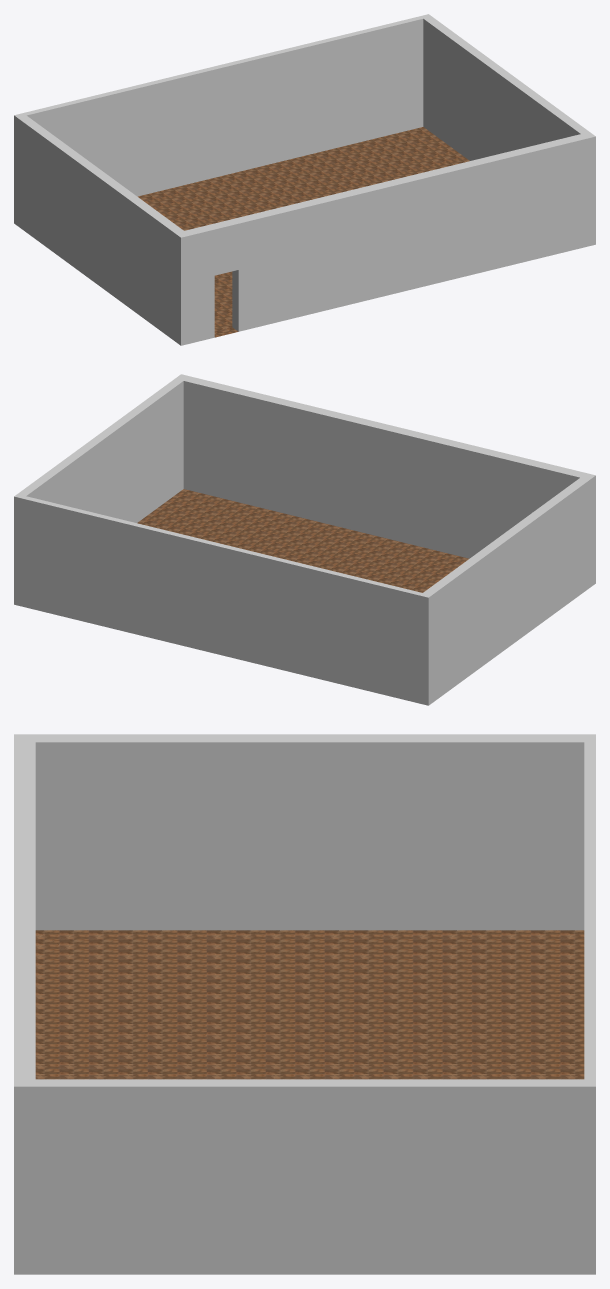
The model's file is classroom_no_windows.fbx.
3 renders of one model, top to bottom at view 1: azimuth 30°, elevation 25°; view 2: azimuth 150°, elevation 25°; view 3: azimuth 270°, elevation 25°, orthographic. The views are drawn at different scales.
Parts seen in each view (by area): view 1: Classroom 1.000; view 2: Classroom 1.000; view 3: Classroom 1.000.
Boxes of the visible parts, x1,y1,x2,y2 form: Classroom 1.000: (14, 14, 595, 345); Classroom 1.000: (14, 374, 595, 705); Classroom 1.000: (14, 734, 595, 1274).
Bounding box in the file's own units: 2732 × 680 × 1907.
